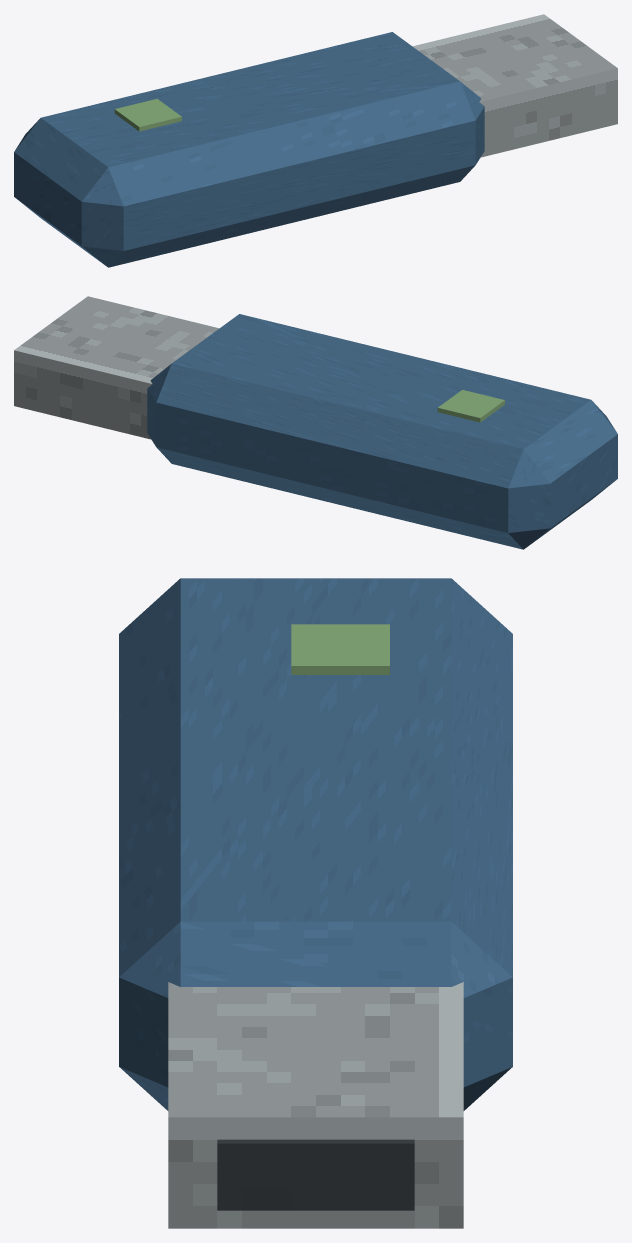
The model's file is usb_drive.glb.
The picture shows the model from 3 angles, top to bottom: view 1: azimuth 30°, elevation 25°; view 2: azimuth 150°, elevation 25°; view 3: azimuth 270°, elevation 25°; orthographic projection. The views are drawn at different scales.
Parts seen in each view (by area): view 1: block_blue body, block_USB-A connector, block_activity dot; view 2: block_blue body, block_USB-A connector, block_activity dot; view 3: block_blue body, block_USB-A connector, block_connector slot, block_activity dot.
Boxes of the visible parts, x1,y1,x2,y2 form: block_blue body: (14, 32, 484, 267); block_USB-A connector: (413, 14, 617, 157); block_activity dot: (114, 98, 181, 131); block_blue body: (147, 314, 617, 549); block_USB-A connector: (14, 296, 218, 439); block_activity dot: (437, 390, 504, 422); block_blue body: (119, 578, 512, 1110); block_USB-A connector: (168, 982, 463, 1228); block_connector slot: (217, 1139, 414, 1210); block_activity dot: (291, 624, 389, 674).
Size of the model in its own units: 0.0504 by 0.0095 by 0.016.
1 material, 1 textured.
